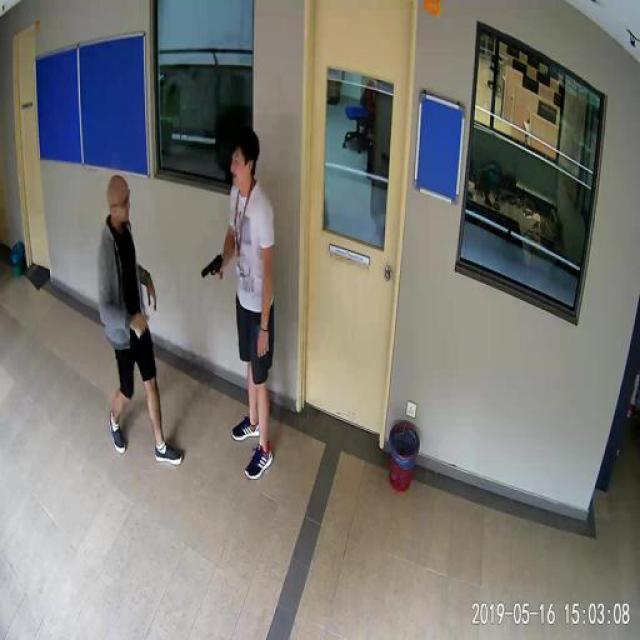weapon: (200, 252, 227, 282)
